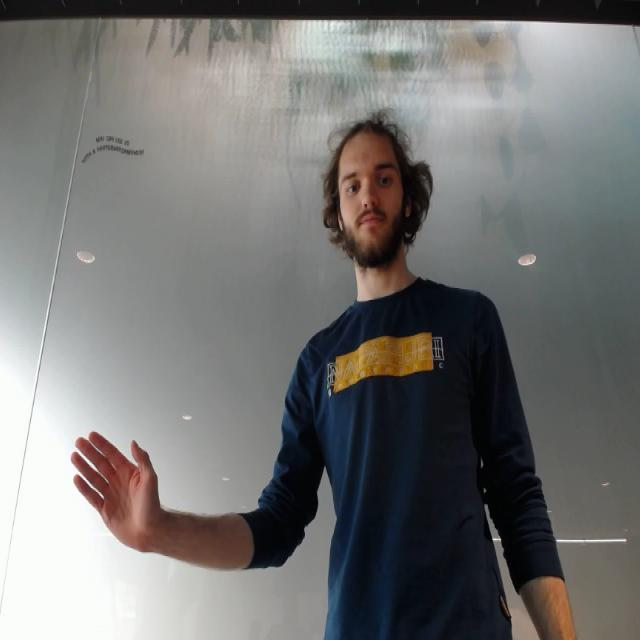backward: (69, 428, 163, 558)
